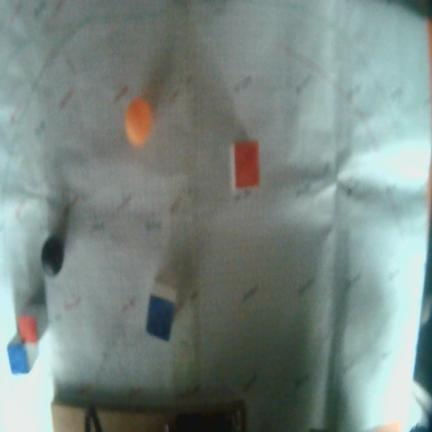circle_blue: (41, 237, 64, 276)
circle_orange: (125, 97, 153, 146)
rectangle_blue: (5, 344, 30, 376)
rectangle_orange: (17, 314, 39, 342)
square_blue: (146, 295, 174, 340)
square_orange: (234, 141, 260, 188)
